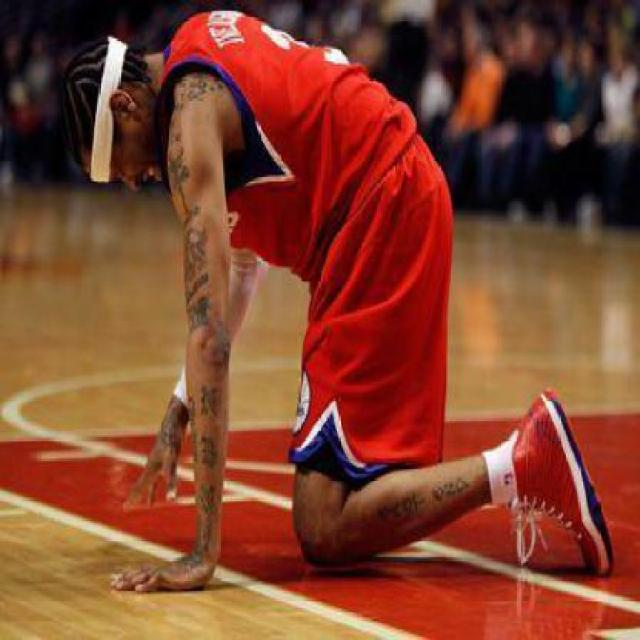fall: (67, 2, 633, 570)
